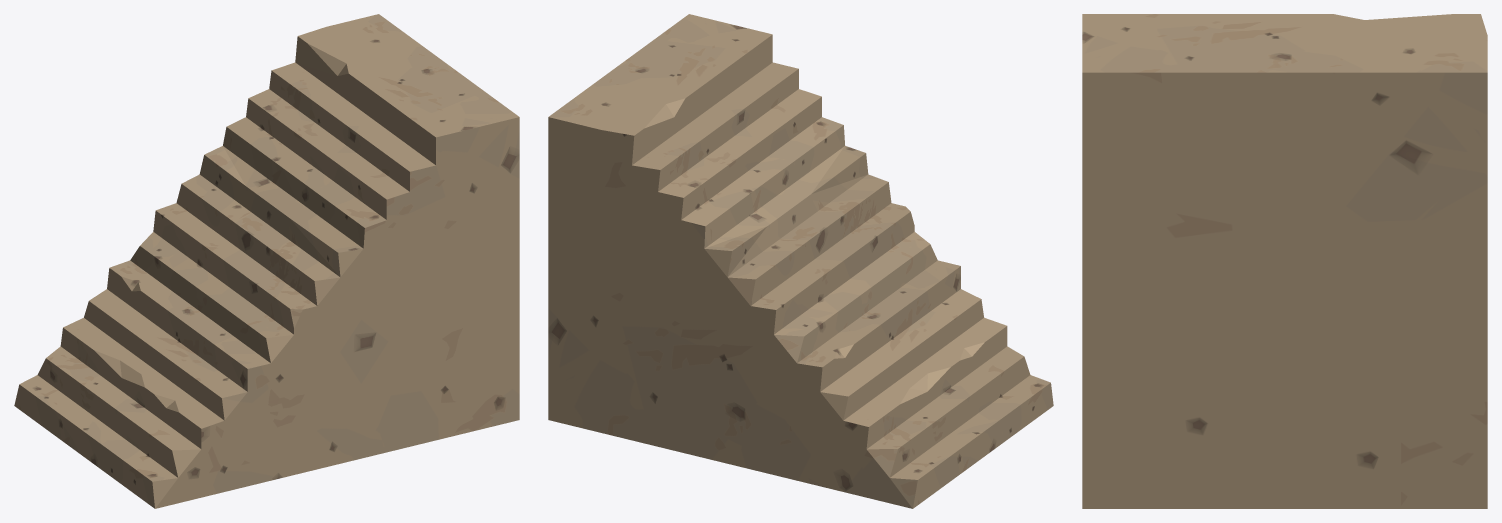
Rendered from SM_Bld_Stairs_Straight_01.fbx.
3 renders of one model, left to right at view 1: azimuth 30°, elevation 25°; view 2: azimuth 150°, elevation 25°; view 3: azimuth 270°, elevation 25°, orthographic. The views are drawn at different scales.
Visible parts, largest first — view 1: SM_Bld_Stairs_Straight_01; view 2: SM_Bld_Stairs_Straight_01; view 3: SM_Bld_Stairs_Straight_01.
Part boxes in pixels (x1,y1,x2,y2): SM_Bld_Stairs_Straight_01: (14,14,519,508); SM_Bld_Stairs_Straight_01: (548,14,1053,508); SM_Bld_Stairs_Straight_01: (1082,14,1487,508).
Bounding box in the file's own units: 374 × 297 × 250.
